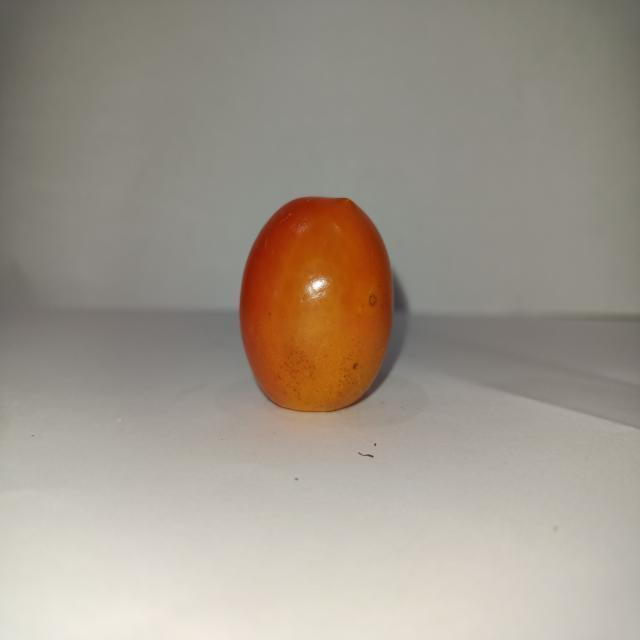Red: (238, 194, 394, 413)
